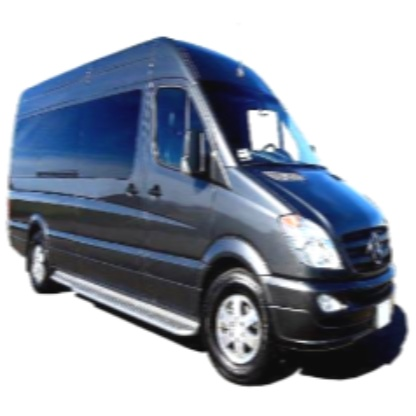Vehicle: (9, 36, 400, 384)
